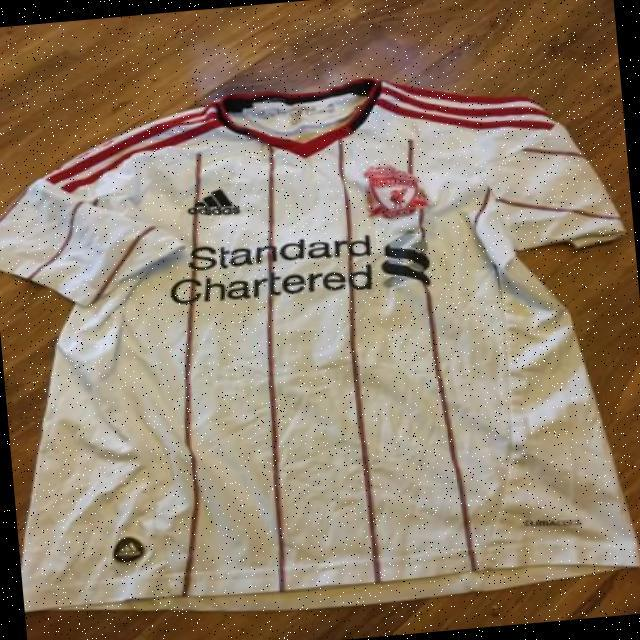Adidas: (186, 187, 240, 219)
Standard Chartered: (166, 224, 432, 308)
